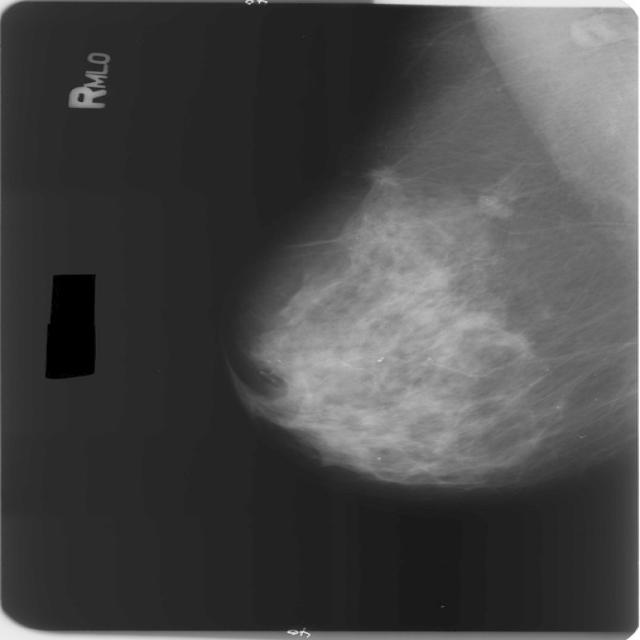tumour: (476, 192, 511, 218), (363, 165, 402, 187)
